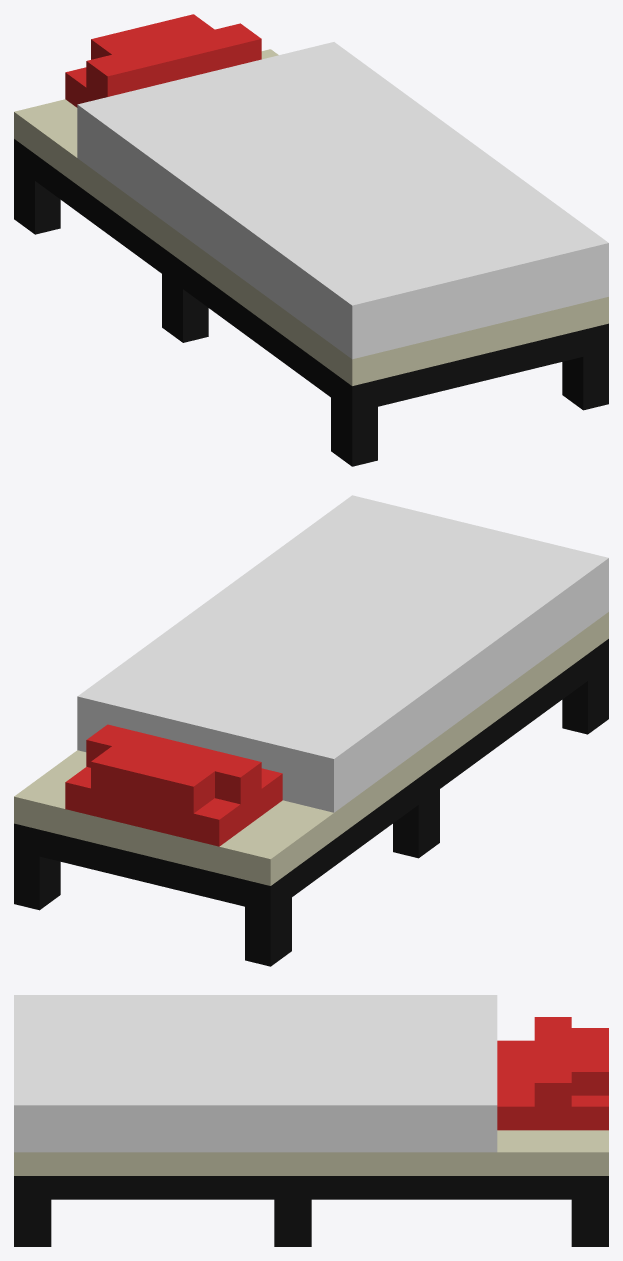
File: Bed.fbx
3 renders of one model, top to bottom at view 1: azimuth 30°, elevation 25°; view 2: azimuth 150°, elevation 25°; view 3: azimuth 270°, elevation 25°, orthographic. The views are drawn at different scales.
Parts seen in each view (by area): view 1: Bed; view 2: Bed; view 3: Bed.
Boxes of the visible parts, left/top/right/bottom form: Bed: left=14, top=14, right=608, bottom=466; Bed: left=14, top=495, right=608, bottom=966; Bed: left=14, top=995, right=608, bottom=1246.
Size of the model in its own units: 4.85 by 2.91 by 11.07.
